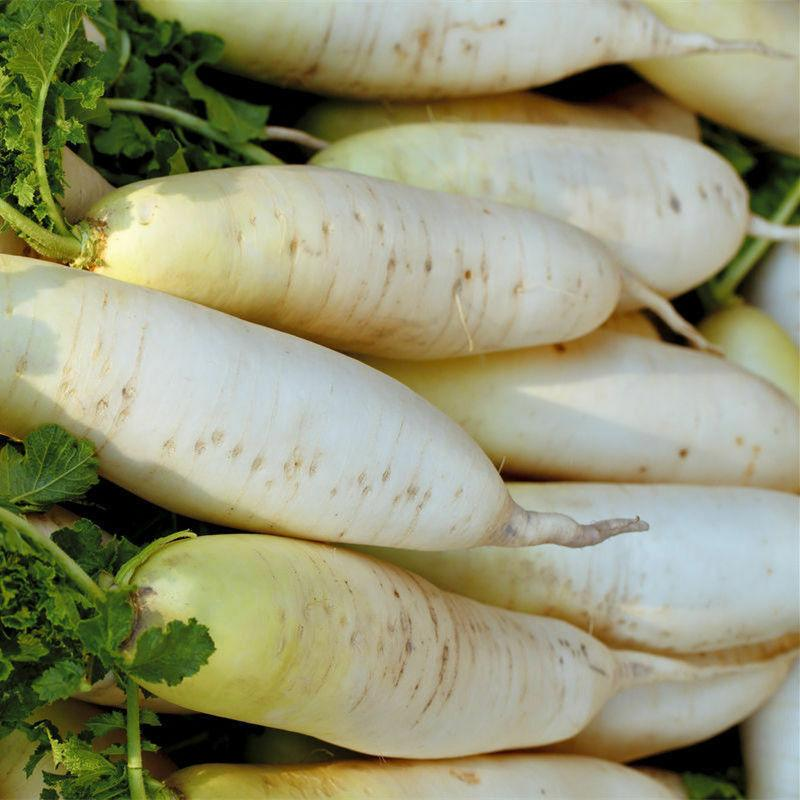radish: (116, 228, 800, 425), (205, 685, 800, 800)
